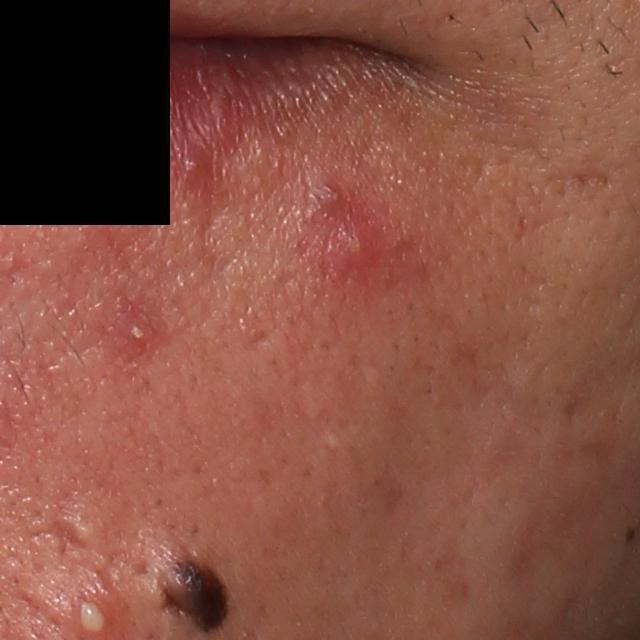atrophic_scar: (535, 164, 615, 193), (42, 503, 81, 559)
nevus: (150, 550, 240, 638)
papule: (317, 216, 381, 270), (176, 150, 205, 181)
pustule: (71, 597, 113, 638), (123, 314, 155, 345)
